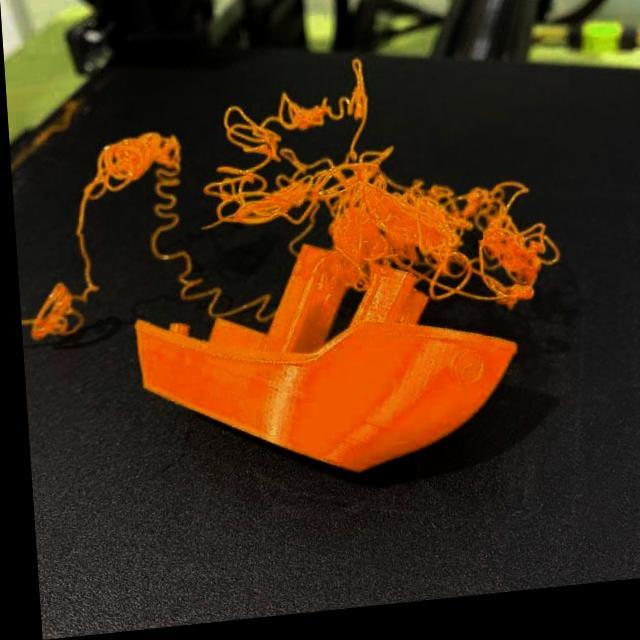spaghetti: (5, 47, 560, 360)
